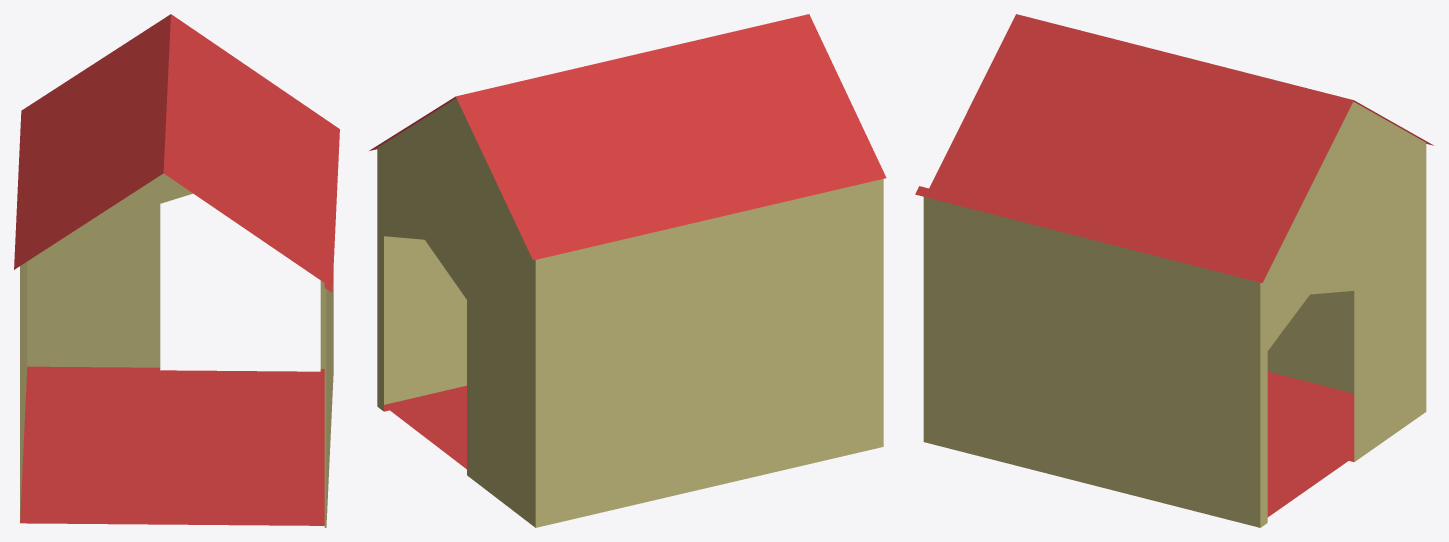
3 renders of one model, left to right at view 1: azimuth 30°, elevation 25°; view 2: azimuth 150°, elevation 25°; view 3: azimuth 270°, elevation 25°, orthographic. The views are drawn at different scales.
Visible parts, largest first — view 1: group_3, group_6, group_5, group_4; view 2: group_5, group_3, group_6, group_4; view 3: group_5, group_3, group_6.
Part boxes in pixels (left/top/right/bottom): group_3: left=14, top=14, right=339, bottom=292; group_6: left=20, top=366, right=324, bottom=525; group_5: left=20, top=173, right=333, bottom=527; group_4: left=14, top=14, right=336, bottom=266; group_5: left=377, top=98, right=883, bottom=527; group_3: left=369, top=14, right=886, bottom=260; group_6: left=384, top=385, right=466, bottom=469; group_4: left=371, top=98, right=886, bottom=259; group_5: left=923, top=101, right=1426, bottom=527; group_3: left=915, top=14, right=1433, bottom=282; group_6: left=1267, top=371, right=1354, bottom=517.
Size of the model in its own units: 19.31 by 20.52 by 16.
